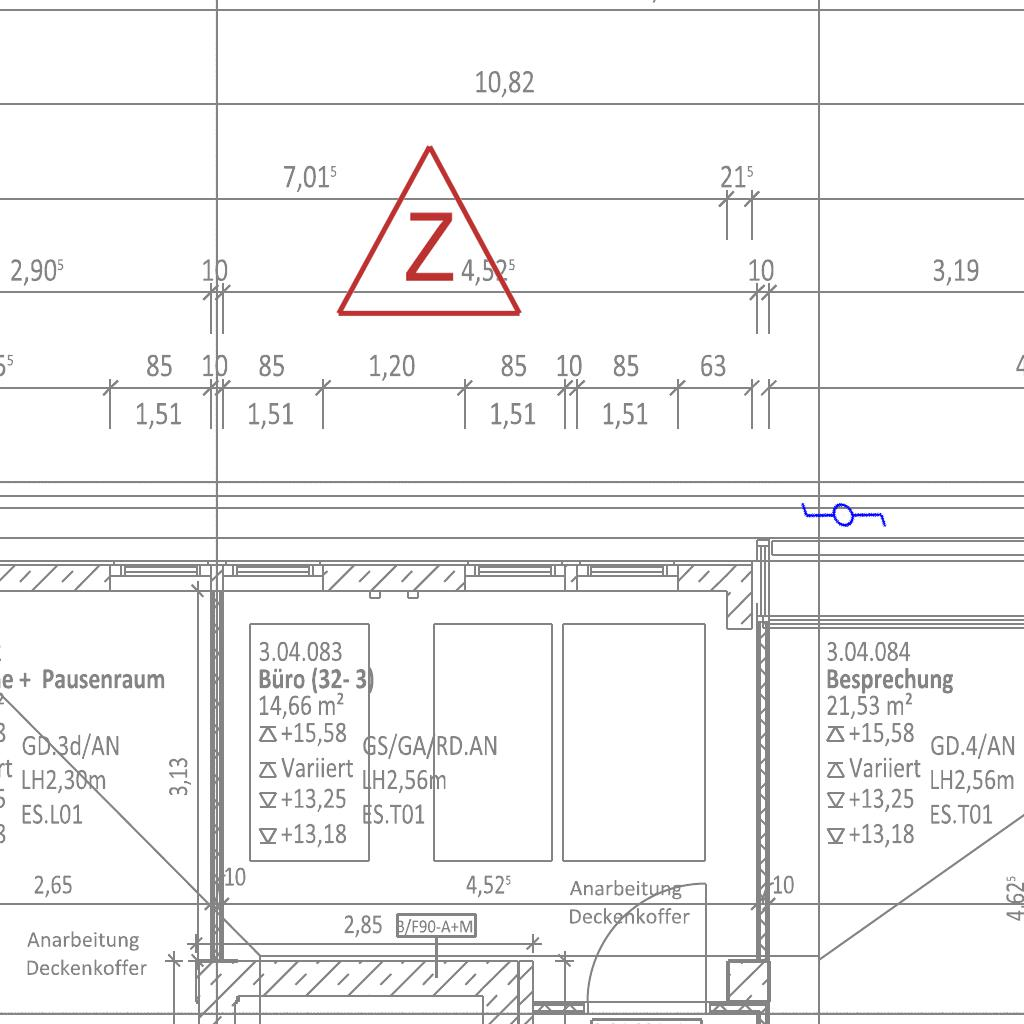Wechselschalter: (790, 458, 894, 564)
Zimmersignalleuchte: (329, 131, 525, 331)
